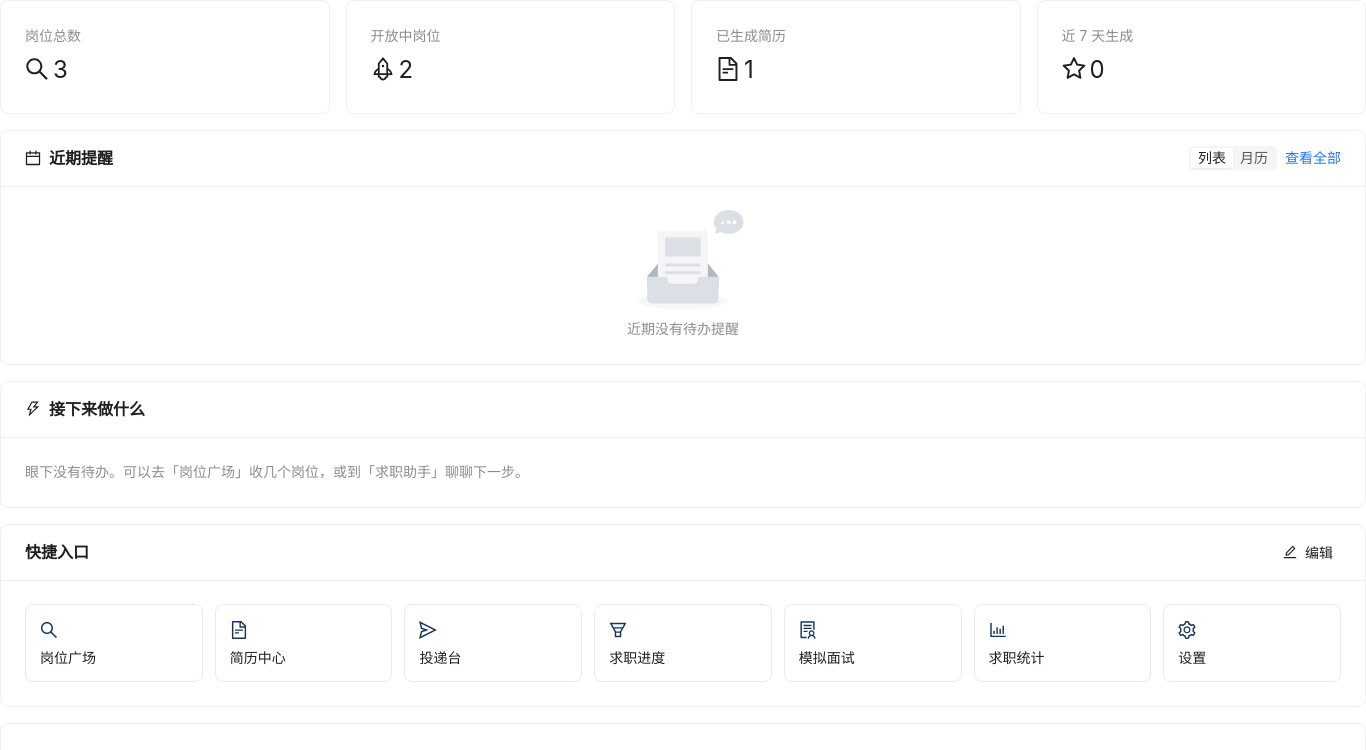
HomePage › toggles the reminder card between list and calendar, persisting the choice
The image size is (1366, 750).
Expected: the text "近期提醒" is shown, [49, 148, 113, 168]
Click the radio button labelled "月历": (1254, 158) [1240, 149, 1268, 166]
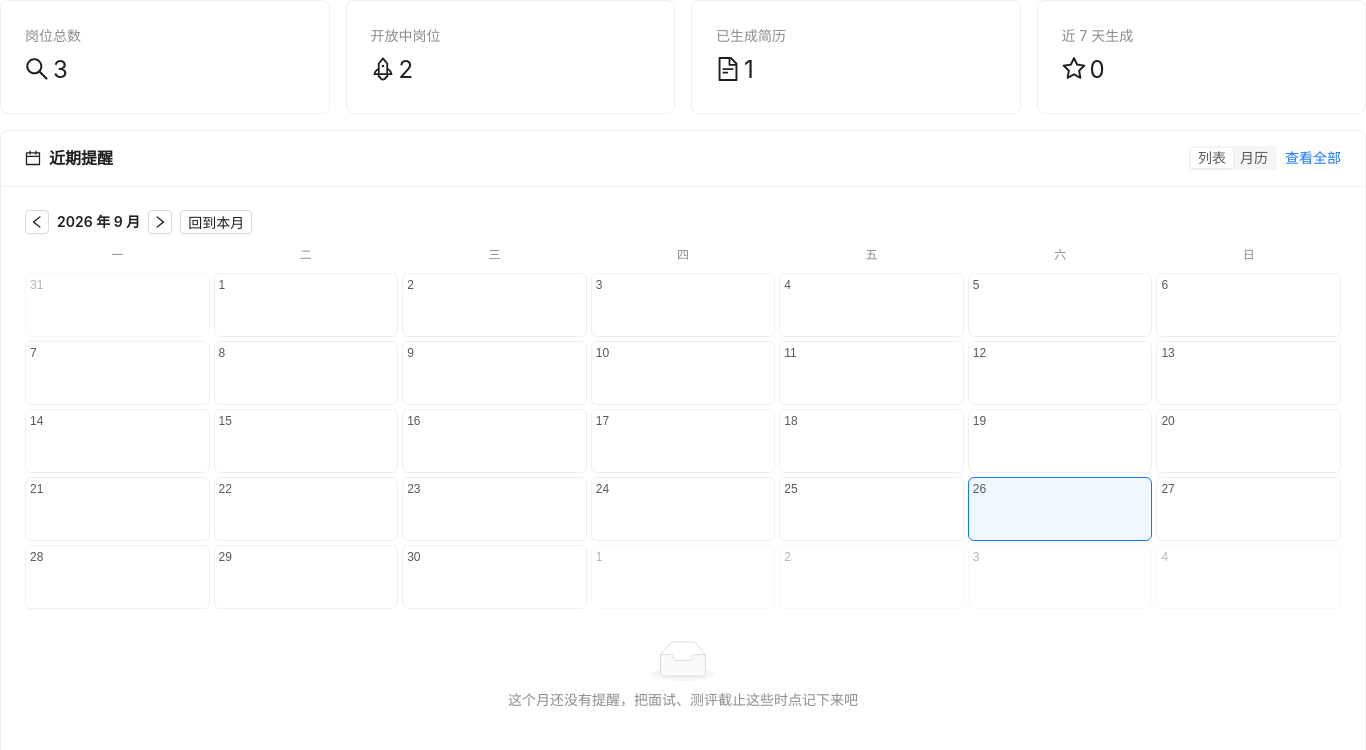
Result: the text "2026 年 9 月" is shown at [57, 213, 140, 230]
Click the radio button labelled "列表": (1212, 158) [1198, 149, 1226, 166]
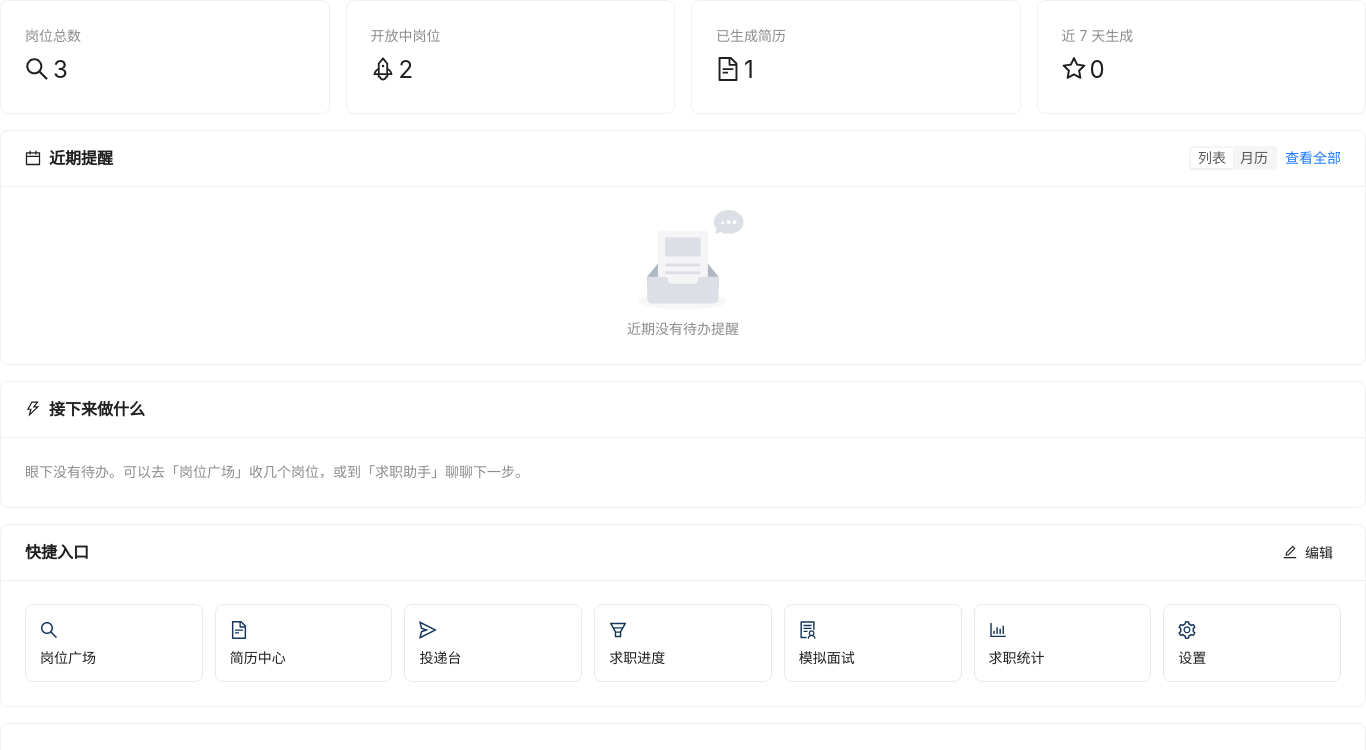
Result: the text "2026 年 9 月" is gone
